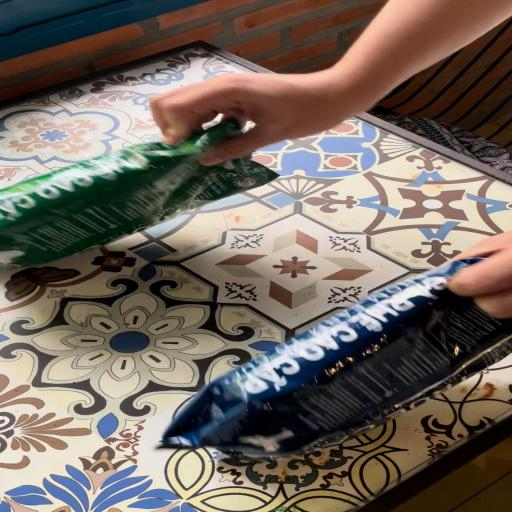cafe_hat: (163, 258, 512, 461)
cafe_xay: (0, 120, 277, 269)
